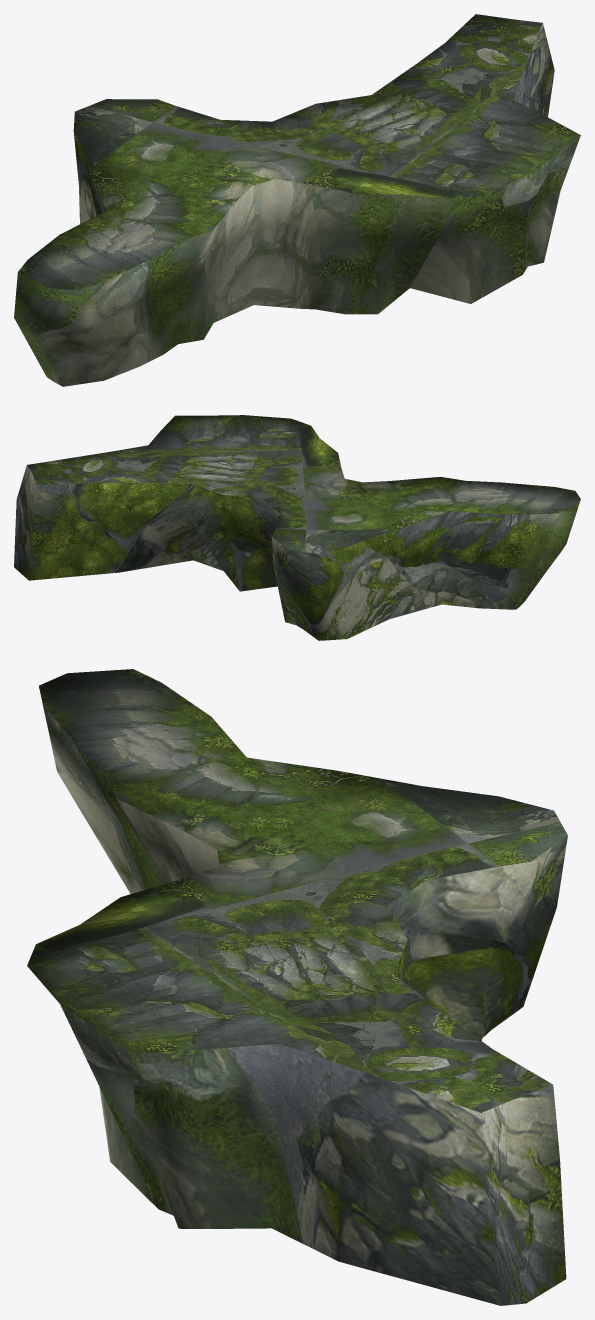
Rendered from 4003_Item_dx_1.FBX.
3 views of the same model, one above another, from view 1: azimuth 30°, elevation 25°; view 2: azimuth 150°, elevation 25°; view 3: azimuth 270°, elevation 25° (orthographic). The views are drawn at different scales.
Visible parts, largest first — view 1: 4003_Item_dx_1; view 2: 4003_Item_dx_1; view 3: 4003_Item_dx_1.
Part boxes in pixels (x1,y1,x2,y2): 4003_Item_dx_1: (14, 14, 580, 386); 4003_Item_dx_1: (14, 415, 580, 640); 4003_Item_dx_1: (27, 669, 567, 1305).
Bounding box in the file's own units: 6250 × 1217 × 3154.
